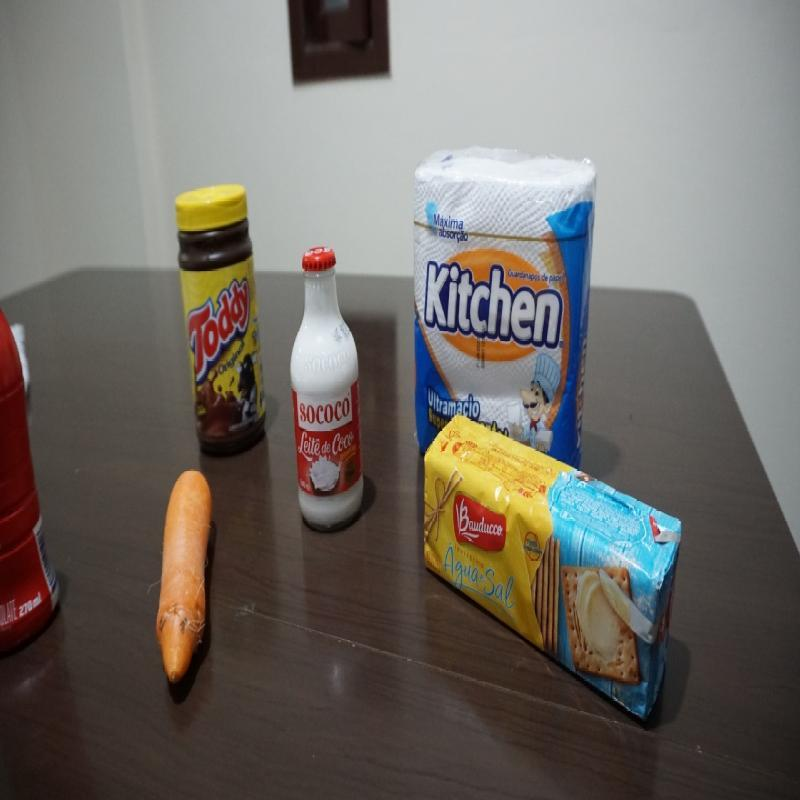Carrot: (153, 467, 212, 688)
Chocolate Milk: (1, 299, 64, 662)
Chocolate Powder: (172, 184, 268, 456)
Coconut Milk: (289, 244, 366, 536)
Cracker: (419, 414, 684, 724)
Napkin: (410, 144, 598, 420)
